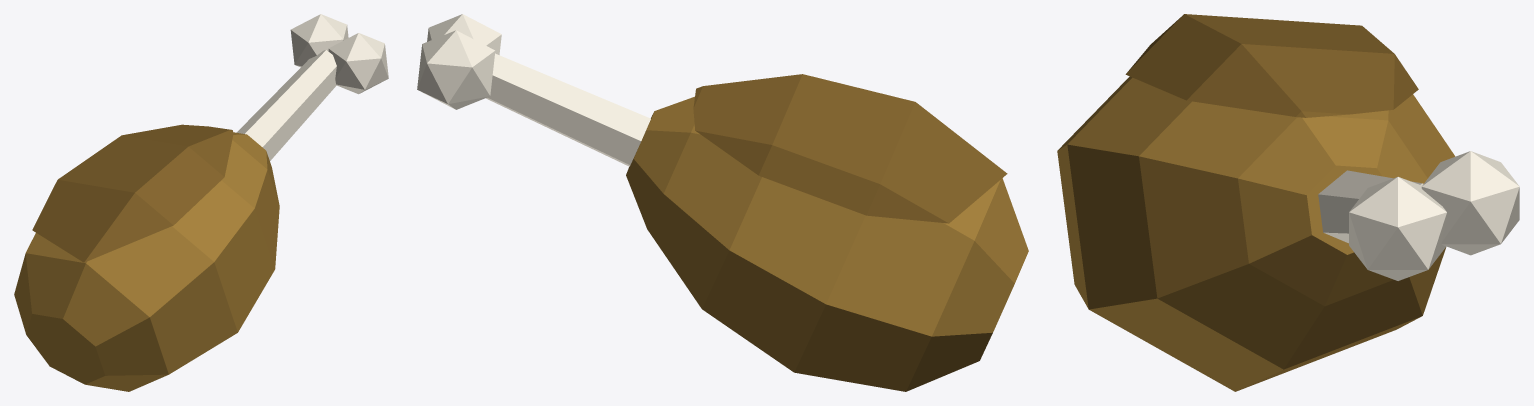
File: Pickup_Chicken.fbx
3 views of the same model, side by side, from view 1: azimuth 30°, elevation 25°; view 2: azimuth 150°, elevation 25°; view 3: azimuth 270°, elevation 25° (orthographic). The views are drawn at different scales.
Visible parts, largest first — view 1: Meat, Crisp, Bone; view 2: Meat, Crisp, Bone; view 3: Meat, Crisp, Bone.
Part boxes in pixels (bbox=[...]): Meat: bbox=[14, 132, 279, 391]; Crisp: bbox=[32, 124, 233, 262]; Bone: bbox=[237, 14, 388, 160]; Meat: bbox=[626, 96, 1028, 391]; Crisp: bbox=[693, 74, 1007, 223]; Bone: bbox=[417, 14, 650, 166]; Meat: bbox=[1057, 76, 1455, 391]; Crisp: bbox=[1125, 14, 1418, 117]; Bone: bbox=[1318, 151, 1519, 280].
Size of the model in its own units: 2.19 by 1.31 by 1.28.
